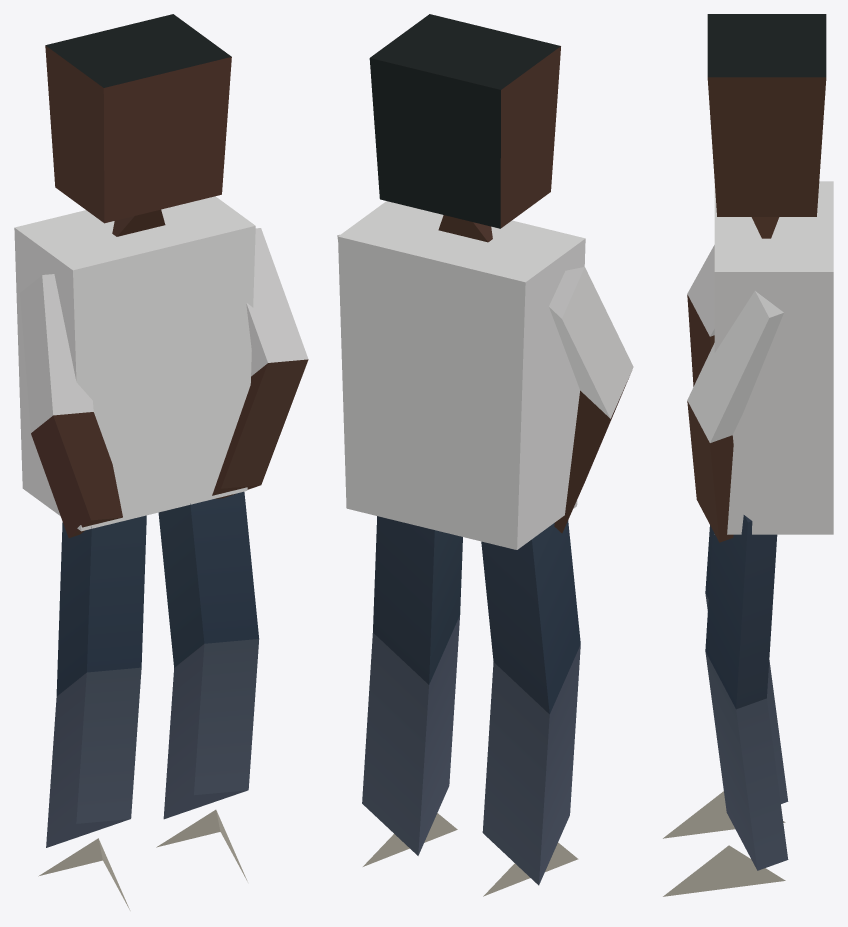
File: fan-10.glb
The picture shows the model from 3 angles, left to right: view 1: azimuth 30°, elevation 25°; view 2: azimuth 150°, elevation 25°; view 3: azimuth 270°, elevation 25°; orthographic projection. The views are drawn at different scales.
Visible parts, largest first — view 1: fan-10; view 2: fan-10; view 3: fan-10.
Part boxes in pixels (left/top/right/bottom): fan-10: left=14, top=14, right=308, bottom=910; fan-10: left=337, top=14, right=633, bottom=896; fan-10: left=663, top=14, right=833, bottom=896.
Bounding box in the file's own units: 0.6575 × 1.91 × 0.36.
